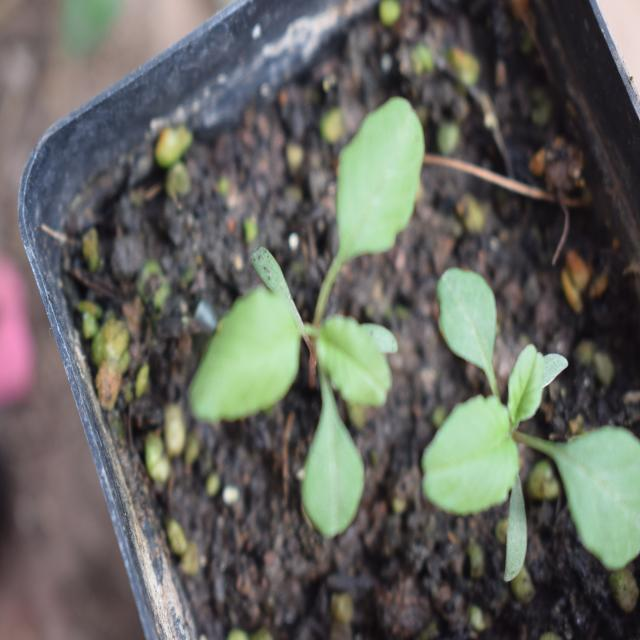pigweed: (427, 262, 632, 575)
